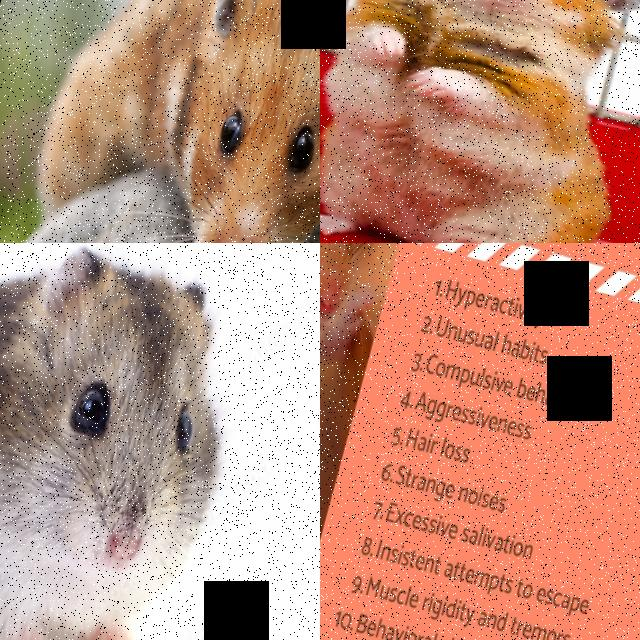hamster: (0, 243, 270, 640), (320, 0, 640, 243), (9, 0, 320, 243), (320, 243, 412, 616)
